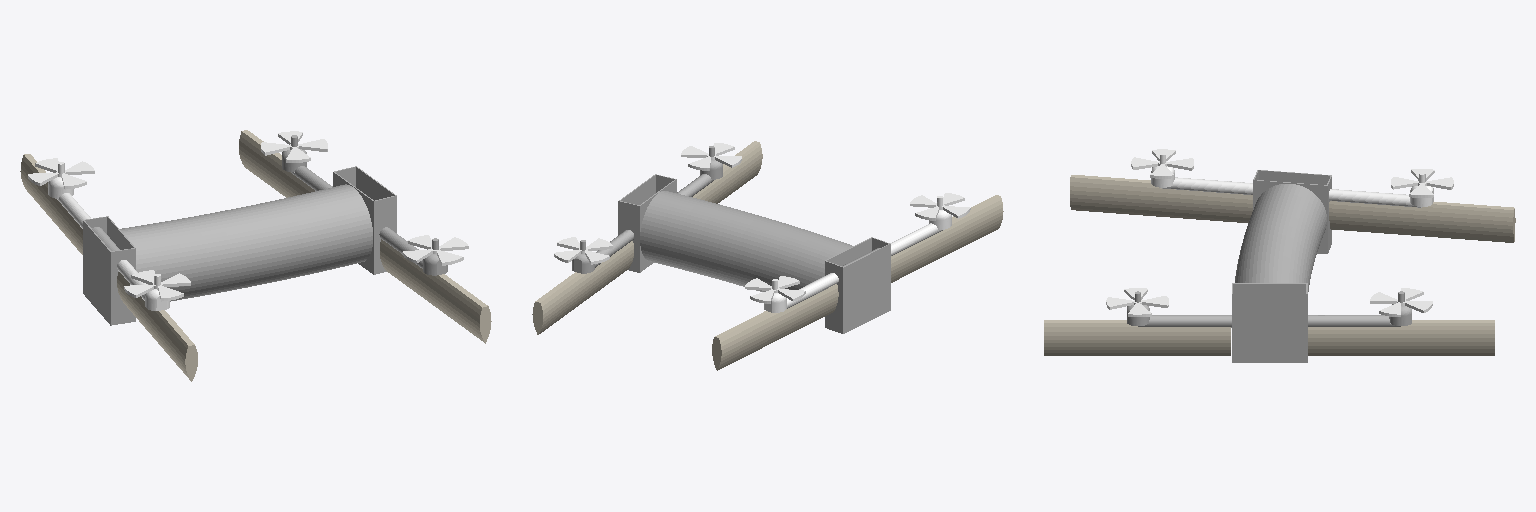
URDF robot description (drone):
<?xml version="1.0" encoding="utf-8"?>
<robot
	name="drone">

<gazebo>
          <plugin name="gazebo_ros_control" filename="libgazebo_ros_control.so">
          <robotNamespace>/drone</robotNamespace>
          </plugin>
  </gazebo>
  <link name="dummy">
  </link>

  <link
    name="drone_body">
    <inertial>
      <origin
        xyz="0.00037727 2.8986E-05 -0.0075029"
        rpy="0 0 0" />
      <mass
        value="0.35742" />
      <inertia
        ixx="0.00043822"
        ixy="0.0001092"
        ixz="0"
        iyy="0.0016768"
        iyz="0"
        izz="0.0016916" />
    </inertial>
    <visual>
      <origin
        xyz="0 0 0"
        rpy="0 0 0" />
      <geometry>
        <mesh
		filename="package://drone_description/meshes/drone_body.STL" />
      </geometry>
      <material
        name="">
        <color
          rgba="0.75294 0.75294 0.75294 1" />
      </material>
    </visual>
    <collision>
      <origin
        xyz="0 0 0"
        rpy="0 0 0" />
      <geometry>
        <mesh
		filename="package://drone_description/meshes/drone_body.STL" />
      </geometry>
    </collision>
  </link>

  <joint name="dummy_joint" type='fixed'>
          <parent link="dummy"/>
          <child link='drone_body'/>
  </joint>


  <link
    name="front_arm">
    <inertial>
      <origin
        xyz="-3.3282E-07 0.0052885 -4.2308E-12"
        rpy="0 0 0" />
      <mass
        value="0.048886" />
      <inertia
        ixx="0.0001324"
        ixy="-4.9957E-13"
        ixz="-7.3903E-13"
        iyy="0.00013238"
        iyz="-2.4737E-17"
        izz="2.6042E-06" />
    </inertial>
    <visual>
      <origin
        xyz="0 0 0"
        rpy="0 0 0" />
      <geometry>
        <mesh
		filename="package://drone_description/meshes/front_arm.STL" />
      </geometry>
      <material
        name="">
        <color
          rgba="0.75294 0.75294 0.75294 1" />
      </material>
    </visual>
    <collision>
      <origin
        xyz="0 0 0"
        rpy="0 0 0" />
      <geometry>
        <mesh
		filename="package://drone_description/meshes/front_arm.STL" />
      </geometry>
    </collision>
  </link>
  <joint
    name="front_arm_joint"
    type="continuous">
    <origin
      xyz="0.13275334064868 -0.00722327848964719 -0.00540264439683487"
      rpy="1.5707963267949 0 0" />
    <parent
      link="drone_body" />
    <child
      link="front_arm" />
    <axis
      xyz="0 0 -1" />
    <safety_controller
      k_velocity="0" />
  </joint>
  <link
    name="front_right_prop">
    <inertial>
      <origin
        xyz="2.7756E-17 -2.7756E-17 0.0015875"
        rpy="0 0 0" />
      <mass
        value="0.0050401" />
      <inertia
        ixx="1.2716E-06"
        ixy="0"
        ixz="0"
        iyy="1.2716E-06"
        iyz="0"
        izz="2.5348E-06" />
    </inertial>
    <visual>
      <origin
        xyz="0 0 0"
        rpy="0 0 0" />
      <geometry>
        <mesh
		filename="package://drone_description/meshes/front_right_prop.STL" />
      </geometry>
      <material
        name="">
        <color
          rgba="1 1 1 1" />
      </material>
    </visual>
    <collision>
      <origin
        xyz="0 0 0"
        rpy="0 0 0" />
      <geometry>
        <mesh
		filename="package://drone_description/meshes/front_right_prop.STL" />
      </geometry>
    </collision>
  </link>
  <joint
    name="front_right_prop_joint"
    type="continuous">
    <origin
      xyz="0 0.01905 0.1325"
      rpy="-1.5708 0 6.2965E-05" />
    <parent
      link="front_arm" />
    <child
      link="front_right_prop" />
    <axis
      xyz="0 0 1" />
    <safety_controller
      k_velocity="0" />
  </joint>
  <link
    name="front_left_prop">
    <inertial>
      <origin
        xyz="0 0 0.0015875"
        rpy="0 0 0" />
      <mass
        value="0.0050401" />
      <inertia
        ixx="1.2716E-06"
        ixy="0"
        ixz="0"
        iyy="1.2716E-06"
        iyz="0"
        izz="2.5348E-06" />
    </inertial>
    <visual>
      <origin
        xyz="0 0 0"
        rpy="0 0 0" />
      <geometry>
        <mesh
		filename="package://drone_description/meshes/front_left_prop.STL" />
      </geometry>
      <material
        name="">
        <color
          rgba="1 1 1 1" />
      </material>
    </visual>
    <collision>
      <origin
        xyz="0 0 0"
        rpy="0 0 0" />
      <geometry>
        <mesh
		filename="package://drone_description/meshes/front_left_prop.STL" />
      </geometry>
    </collision>
  </link>
  <joint
    name="front_left_prop_joint"
    type="continuous">
    <origin
      xyz="0 0.01905 -0.1325"
      rpy="-1.5708 0 6.2965E-05" />
    <parent
      link="front_arm" />
    <child
      link="front_left_prop" />
    <axis
      xyz="0 0 1" />
    <safety_controller.
      k_velocity="0" />
  </joint>
  <link
    name="front_right_wing">
    <inertial>
      <origin
        xyz="-2.5687E-07 -6.6962E-07 8.5569E-05"
        rpy="0 0 0" />
      <mass
        value="0.010641" />
      <inertia
        ixx="3.2224E-05"
        ixy="8.3423E-12"
        ixz="4.4033E-13"
        iyy="1.0035E-06"
        iyz="0"
        izz="3.1435E-05" />
    </inertial>
    <visual>
      <origin
        xyz="0 0 0"
        rpy="0 0 0" />
      <geometry>
        <mesh
		filename="package://drone_description/meshes/front_right_wing.STL" />
      </geometry>
      <material
        name="">
        <color
          rgba="0.84314 0.81569 0.75294 1" />
      </material>
    </visual>
    <collision>
      <origin
        xyz="0 0 0"
        rpy="0 0 0" />
      <geometry>
        <mesh
		filename="package://drone_description/meshes/front_right_wing.STL" />
      </geometry>
    </collision>
  </link>
  <joint
    name="front_right_wing_joint"
    type="fixed">
    <origin
      xyz="0 -0.017018 0.1325"
      rpy="-1.5708 0 6.2965E-05" />
    <parent
      link="front_arm" />
    <child
      link="front_right_wing" />
    <axis
      xyz="0 0 0" />
    <safety_controller
      k_velocity="0" />
  </joint>
  <link
    name="front_left_wing">
    <inertial>
      <origin
        xyz="2.5685E-07 6.6962E-07 8.5569E-05"
        rpy="0 0 0" />
      <mass
        value="0.010641" />
      <inertia
        ixx="3.2224E-05"
        ixy="8.3423E-12"
        ixz="-4.4367E-13"
        iyy="1.0035E-06"
        iyz="0"
        izz="3.1435E-05" />
    </inertial>
    <visual>
      <origin
        xyz="0 0 0"
        rpy="0 0 0" />
      <geometry>
        <mesh
		filename="package://drone_description/meshes/front_left_wing.STL" />
      </geometry>
      <material
        name="">
        <color
          rgba="0.84314 0.81569 0.75294 1" />
      </material>
    </visual>
    <collision>
      <origin
        xyz="0 0 0"
        rpy="0 0 0" />
      <geometry>
        <mesh
		filename="package://drone_description/meshes/front_left_wing.STL" />
      </geometry>
    </collision>
  </link>
  <joint
    name="front_left_wing_joint"
    type="fixed">
    <origin
      xyz="0 -0.017018 -0.1325"
      rpy="-1.5708 0 6.2965E-05" />
    <parent
      link="front_arm" />
    <child
      link="front_left_wing" />
    <axis
      xyz="0 0 0" />
    <safety_controller
      k_velocity="0" />
  </joint>
  <link
    name="back_arm">
    <inertial>
      <origin
        xyz="0 0 0"
        rpy="0 0 0" />
      <mass
        value="0" />
      <inertia
        ixx="0"
        ixy="0"
        ixz="0"
        iyy="0"
        iyz="0"
        izz="0" />
    </inertial>
    <visual>
      <origin
        xyz="0 0 0"
        rpy="0 0 0" />
      <geometry>
        <mesh
		filename="package://drone_description/meshes/back_arm.STL" />
      </geometry>
      <material
        name="">
        <color
          rgba="1 1 1 1" />
      </material>
    </visual>
    <collision>
      <origin
        xyz="0 0 0"
        rpy="0 0 0" />
      <geometry>
        <mesh
		filename="package://drone_description/meshes/back_arm.STL" />
      </geometry>
    </collision>
  </link>
  <joint
    name="back_arm_joint"
    type="continuous">
    <origin
      xyz="-0.131247051222321 0.015873762965467 0.014597315603165"
      rpy="1.5707963267949 0 -0.174532925199433" />
    <parent
      link="drone_body" />
    <child
      link="back_arm" />
    <axis
      xyz="0 0 1" />
    <safety_controller
      k_velocity="0" />
  </joint>
  <link
    name="back_right_prop">
    <inertial>
      <origin
        xyz="0 0 0.0015875"
        rpy="0 0 0" />
      <mass
        value="0.0050401" />
      <inertia
        ixx="1.2716E-06"
        ixy="0"
        ixz="0"
        iyy="1.2716E-06"
        iyz="0"
        izz="2.5348E-06" />
    </inertial>
    <visual>
      <origin
        xyz="0 0 0"
        rpy="0 0 0" />
      <geometry>
        <mesh
		filename="package://drone_description/meshes/back_right_prop.STL" />
      </geometry>
      <material
        name="">
        <color
          rgba="1 1 1 1" />
      </material>
    </visual>
    <collision>
      <origin
        xyz="0 0 0"
        rpy="0 0 0" />
      <geometry>
        <mesh
		filename="package://drone_description/meshes/back_right_prop.STL" />
      </geometry>
    </collision>
  </link>
  <joint
    name="back_right_prop_joint"
    type="continuous">
    <origin
      xyz="3.64629030858155E-05 0.0190499651038184 0.1325"
      rpy="-1.5707963267949 0 -0.00191406432285098" />
    <parent
      link="back_arm" />
    <child
      link="back_right_prop" />
    <axis
      xyz="0 0 1" />
    <safety_controller
      k_velocity="0" />
  </joint>
  <link
    name="back_left_prop">
    <inertial>
      <origin
        xyz="0 0 0.0015875"
        rpy="0 0 0" />
      <mass
        value="0.0050401" />
      <inertia
        ixx="1.2716E-06"
        ixy="0"
        ixz="0"
        iyy="1.2716E-06"
        iyz="0"
        izz="2.5348E-06" />
    </inertial>
    <visual>
      <origin
        xyz="0 0 0"
        rpy="0 0 0" />
      <geometry>
        <mesh
		filename="package://drone_description/meshes/back_left_prop.STL" />
      </geometry>
      <material
        name="">
        <color
          rgba="1 1 1 1" />
      </material>
    </visual>
    <collision>
      <origin
        xyz="0 0 0"
        rpy="0 0 0" />
      <geometry>
        <mesh
		filename="package://drone_description/meshes/back_left_prop.STL" />
      </geometry>
    </collision>
  </link>
  <joint
    name="back_left_prop_joint"
    type="continuous">
    <origin
      xyz="3.6463E-05 0.01905 -0.1325"
      rpy="-1.5708 0 -0.0019141" />
    <parent
      link="back_arm" />
    <child
      link="back_left_prop" />
    <axis
      xyz="0 0 1" />
    <safety_controller
      k_velocity="0" />
  </joint>
  <link
    name="back_right_wing">
    <inertial>
      <origin
        xyz="1.2166E-08 0 8.4714E-05"
        rpy="0 0 0" />
      <mass
        value="0.010641" />
      <inertia
        ixx="3.2224E-05"
        ixy="8.3423E-12"
        ixz="4.9342E-13"
        iyy="1.0035E-06"
        iyz="0"
        izz="3.1435E-05" />
    </inertial>
    <visual>
      <origin
        xyz="0 0 0"
        rpy="0 0 0" />
      <geometry>
        <mesh
		filename="package://drone_description/meshes/back_right_wing.STL" />
      </geometry>
      <material
        name="">
        <color
          rgba="0.84314 0.81569 0.75294 1" />
      </material>
    </visual>
    <collision>
      <origin
        xyz="0 0 0"
        rpy="0 0 0" />
      <geometry>
        <mesh
		filename="package://drone_description/meshes/back_right_wing.STL" />
      </geometry>
    </collision>
  </link>
  <joint
    name="back_right_wing_joint"
    type="fixed">
    <origin
      xyz="-3.2574E-05 -0.017018 0.1325"
      rpy="-1.5708 0 -0.0019141" />
    <parent
      link="back_arm" />
    <child
      link="back_right_wing" />
    <axis
      xyz="0 0 0" />
    <safety_controller
      k_velocity="0" />
  </joint>
  <link
    name="back_left_wing">
    <inertial>
      <origin
        xyz="-1.1307E-08 -5.5511E-17 8.4714E-05"
        rpy="0 0 0" />
      <mass
        value="0.010641" />
      <inertia
        ixx="3.2224E-05"
        ixy="8.3423E-12"
        ixz="-3.9204E-13"
        iyy="1.0035E-06"
        iyz="0"
        izz="3.1435E-05" />
    </inertial>
    <visual>
      <origin
        xyz="0 0 0"
        rpy="0 0 0" />
      <geometry>
        <mesh
		filename="package://drone_description/meshes/back_left_wing.STL" />
      </geometry>
      <material
        name="">
        <color
          rgba="0.84314 0.81569 0.75294 1" />
      </material>
    </visual>
    <collision>
      <origin
        xyz="0 0 0"
        rpy="0 0 0" />
      <geometry>
        <mesh
		filename="package://drone_description/meshes/back_left_wing.STL" />
      </geometry>
    </collision>
  </link>
  <joint
    name="back_left_wing_joint"
    type="fixed">
    <origin
      xyz="-3.2574E-05 -0.017018 -0.1325"
      rpy="-1.5708 0 -0.0019141" />
    <parent
      link="back_arm" />
    <child
      link="back_left_wing" />
    <axis
      xyz="0 0 0" />
    <safety_controller
      k_velocity="0" />
  </joint>

<transmission name="front_arm_transmission">
          <type>transmission_interface/SimpleTransmission</type>
          <joint name="front_arm_joint">
                <hardwareInterface>hardware_interface/EffortJointInterface</hardwareInterface>
          </joint>
          <actuator name="front_arm_motor">
                <hardwareInterface>hardware_interface/EffortJointInterface</hardwareInterface>
          <mechanicalReduction>1</mechanicalReduction>
          </actuator>
  </transmission>
  <transmission name="back_arm_transmission">
          <type>transmission_interface/SimpleTransmission</type>
          <joint name="back_arm_joint">
                <hardwareInterface>hardware_interface/EffortJointInterface</hardwareInterface>
          </joint>
          <actuator name="front_arm_motor">
                <hardwareInterface>hardware_interface/EffortJointInterface</hardwareInterface>
          <mechanicalReduction>1</mechanicalReduction>
          </actuator>
  </transmission>
  <transmission name="front_right_prop_transmission">
          <type>transmission_interface/SimpleTransmission</type>
          <joint name="front_right_prop_joint">
                <hardwareInterface>hardware_interface/EffortJointInterface</hardwareInterface>
          </joint>
          <actuator name="front_right_motor">
                <hardwareInterface>hardware_interface/EffortJointInterface</hardwareInterface>
          <mechanicalReduction>1</mechanicalReduction>
          </actuator>
  </transmission>
  <transmission name="front_left_prop_transmission">
          <type>transmission_interface/SimpleTransmission</type>
          <joint name="front_left_prop_joint">
                <hardwareInterface>hardware_interface/EffortJointInterface</hardwareInterface>
          </joint>
          <actuator name="front_left_motor">
                <hardwareInterface>hardware_interface/EffortJointInterface</hardwareInterface>
          <mechanicalReduction>1</mechanicalReduction>
          </actuator>
  </transmission>
  <transmission name="back_right_prop_transmission">
          <type>transmission_interface/SimpleTransmission</type>
          <joint name="back_right_prop_joint">
                <hardwareInterface>hardware_interface/EffortJointInterface</hardwareInterface>
          </joint>
          <actuator name="back_right_motor">
                <hardwareInterface>hardware_interface/EffortJointInterface</hardwareInterface>
          <mechanicalReduction>1</mechanicalReduction>
          </actuator>
  </transmission>
  <transmission name="back_left_prop_transmission">
          <type>transmission_interface/SimpleTransmission</type>
          <joint name="back_left_prop_joint">
                <hardwareInterface>hardware_interface/EffortJointInterface</hardwareInterface>
          </joint>
          <actuator name="back_left_motor">
                <hardwareInterface>hardware_interface/EffortJointInterface</hardwareInterface>
          <mechanicalReduction>1</mechanicalReduction>
          </actuator>
  </transmission>
  <gazebo>
        <plugin name='gazebo_ros_force' filename='libgazebo_ros_force.so'>
                <alwaysON>true</alwaysON>
                <update>100</update>
                <updateRate>100.0</updateRate>
                <bodyName>front_right_prop</bodyName>
                <topicName>drone/front_right_motor_thrust</topicName>
        </plugin>
        <plugin name='gazebo_ros_force' filename='libgazebo_ros_force.so'>
                <alwaysON>true</alwaysON>
                <update>100</update>
                <updateRate>100.0</updateRate>
                <bodyName>front_left_prop</bodyName>
                <topicName>drone/front_left_motor_thrust</topicName>
        </plugin>
        <plugin name='gazebo_ros_force' filename='libgazebo_ros_force.so'>
                <alwaysON>true</alwaysON>
                <update>100</update>
                <updateRate>100.0</updateRate>
                <bodyName>back_right_prop</bodyName>
                <topicName>drone/back_right_motor_thrust</topicName>
        </plugin>
        <plugin name='gazebo_ros_force' filename='libgazebo_ros_force.so'>
                <alwaysON>true</alwaysON>
                <update>100</update>
                <updateRate>100.0</updateRate>
                <bodyName>back_left_prop</bodyName>
                <topicName>drone/back_left_motor_thrust</topicName>
        </plugin>
        <plugin name='gazebo_ros_force' filename='libgazebo_ros_force.so'>
                <alwaysON>true</alwaysON>
                <update>100</update>
                <updateRate>100.0</updateRate>
                <bodyName>drone_body</bodyName>
                <topicName>drone/drone_body_force</topicName>
        </plugin>
        <plugin name="imu_controller" filename="libgazebo_ros_imu.so">
                <alwaysON>true</alwaysON>
                <update>100</update>
                <updateRate>50.0</updateRate>
                <bodyName>drone_body</bodyName>
                <topicName>drone/imu_data</topicName>
                <gaussianNoise>2.89e-08</gaussianNoise>
                <xyzOffsets> 0 0 0 </xyzOffsets>
                <rpyOffsets> 0 0 0 </rpyOffsets>
        </plugin>
  </gazebo>

</robot>

--- Facts derived from the render (not from the file) ---
Views: 3 orthographic renders of the robot side by side, from view 1: azimuth 30°, elevation 25°; view 2: azimuth 150°, elevation 25°; view 3: azimuth 270°, elevation 25°.
Model drone with 12 links and 11 joints (6 continuous, 5 fixed), rooted at dummy, posed every joint at zero.
Links seen in each view (by area): view 1: drone_body, front_right_wing, back_right_wing, front_left_wing, front_arm, back_left_wing, back_arm, front_right_prop, back_right_prop, back_left_prop, front_left_prop; view 2: drone_body, back_left_wing, back_right_wing, front_left_wing, back_arm, front_right_wing, front_arm, front_left_prop, back_left_prop, back_right_prop, front_right_prop; view 3: drone_body, front_right_wing, front_left_wing, back_left_wing, back_right_wing, front_arm, back_arm, front_left_prop, back_right_prop, front_right_prop, back_left_prop.
Link boxes in pixels (bbox=[...]): drone_body: bbox=[83, 166, 396, 325]; front_right_wing: bbox=[380, 239, 491, 343]; back_right_wing: bbox=[117, 272, 197, 381]; front_left_wing: bbox=[239, 130, 314, 197]; front_arm: bbox=[282, 135, 447, 275]; back_left_wing: bbox=[20, 154, 82, 254]; back_arm: bbox=[48, 162, 169, 310]; front_right_prop: bbox=[402, 235, 468, 265]; back_right_prop: bbox=[124, 270, 190, 301]; back_left_prop: bbox=[28, 158, 94, 189]; front_left_prop: bbox=[261, 131, 327, 162]; drone_body: bbox=[618, 174, 890, 333]; back_left_wing: bbox=[712, 284, 838, 370]; back_right_wing: bbox=[891, 195, 1003, 282]; front_left_wing: bbox=[532, 241, 633, 334]; back_arm: bbox=[764, 196, 951, 312]; front_right_wing: bbox=[693, 141, 762, 203]; front_arm: bbox=[572, 146, 722, 273]; front_left_prop: bbox=[554, 237, 612, 264]; back_left_prop: bbox=[745, 276, 805, 303]; back_right_prop: bbox=[910, 193, 970, 220]; front_right_prop: bbox=[681, 143, 741, 170]; drone_body: bbox=[1232, 170, 1331, 362]; front_right_wing: bbox=[1044, 320, 1230, 355]; front_left_wing: bbox=[1308, 320, 1494, 355]; back_left_wing: bbox=[1329, 201, 1515, 242]; back_right_wing: bbox=[1070, 175, 1252, 222]; front_arm: bbox=[1127, 291, 1411, 327]; back_arm: bbox=[1151, 153, 1433, 207]; front_left_prop: bbox=[1370, 288, 1432, 316]; back_right_prop: bbox=[1131, 149, 1193, 178]; front_right_prop: bbox=[1106, 288, 1168, 316]; back_left_prop: bbox=[1391, 169, 1453, 197].
Size in the robot's own frame: 0.3505 by 0.4737 by 0.0918 metres.
Meshes: 11 distinct files referenced, 11 mesh visuals loaded (11 binary STL).